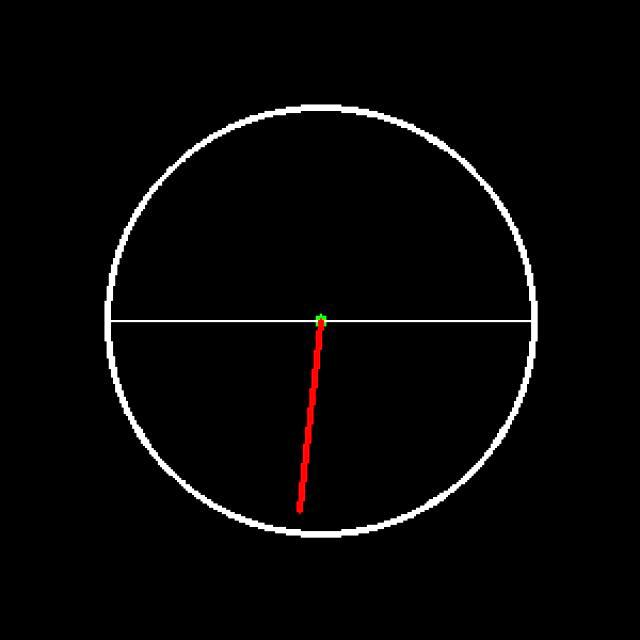Needle_Tip: (277, 470, 341, 543)
Needle_base: (294, 294, 352, 370)
